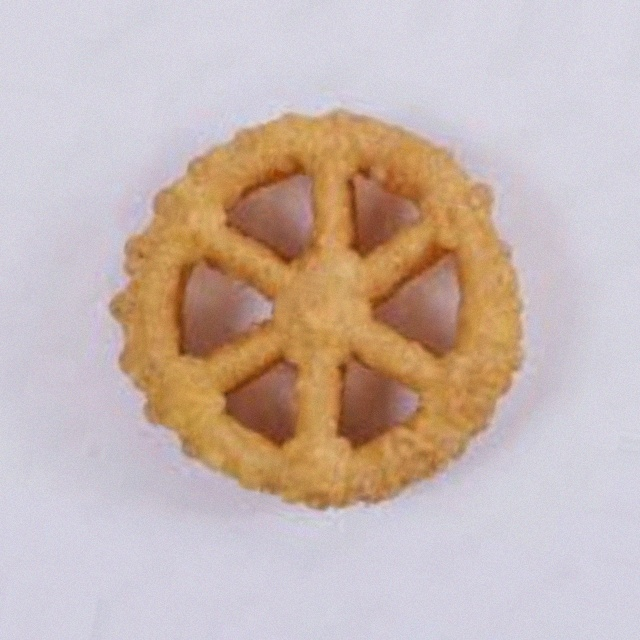Kokis: (88, 77, 552, 563)
